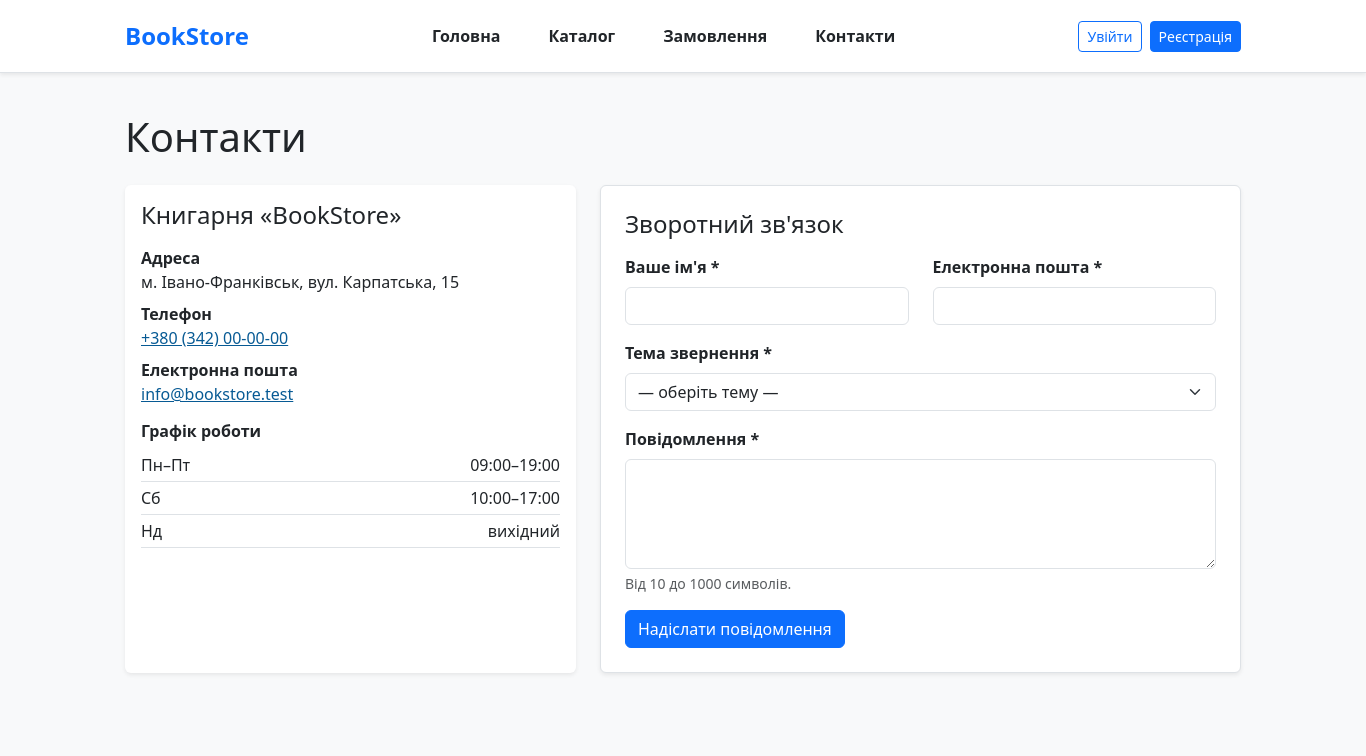
Scenario: Автентифікація, захищені маршрути та контакти › валідує форму зворотного зв’язку і надсилає коректне звернення
Click the button "Надіслати повідомлення" at (735, 629), box [625, 610, 845, 648]
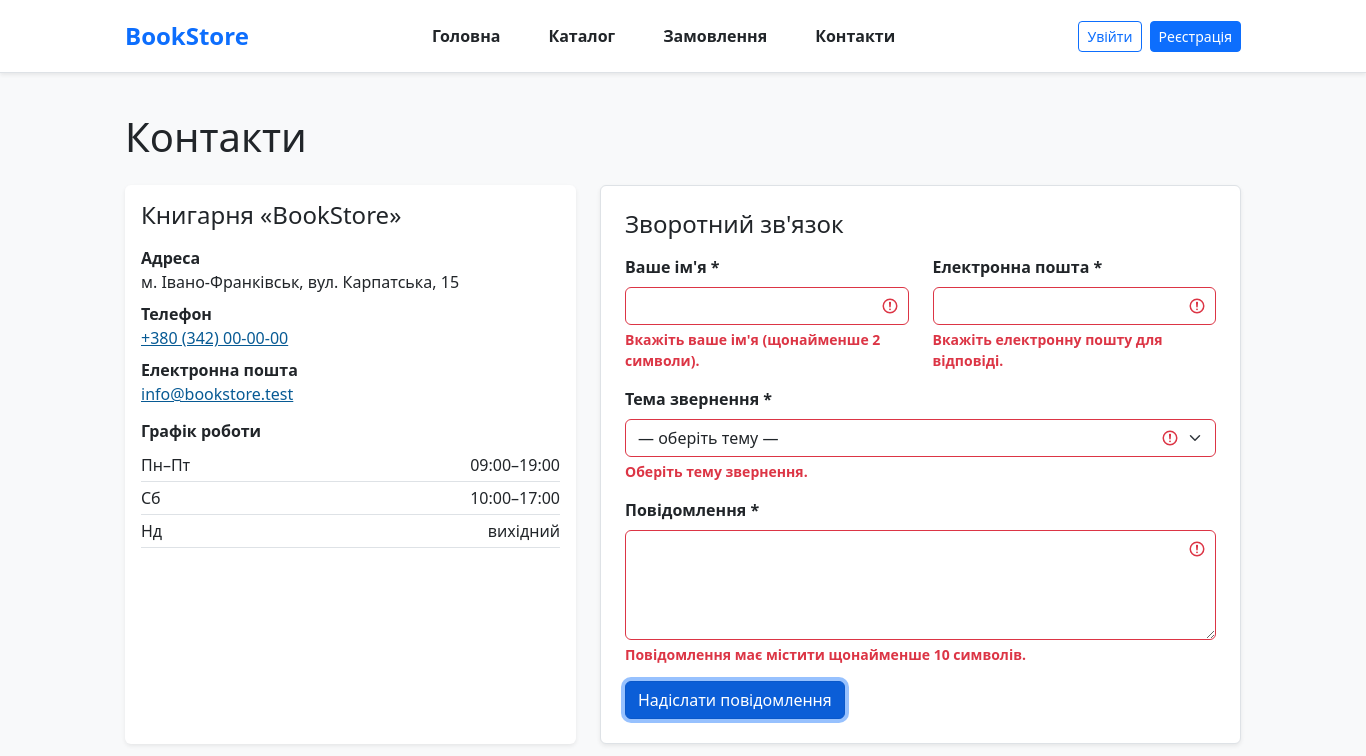
Now the text "Оберіть тему звернення." is shown, box [625, 462, 808, 481]
Type "Олена" into the field labelled "Ваше ім'я *" at (767, 306), box [625, 287, 908, 325]
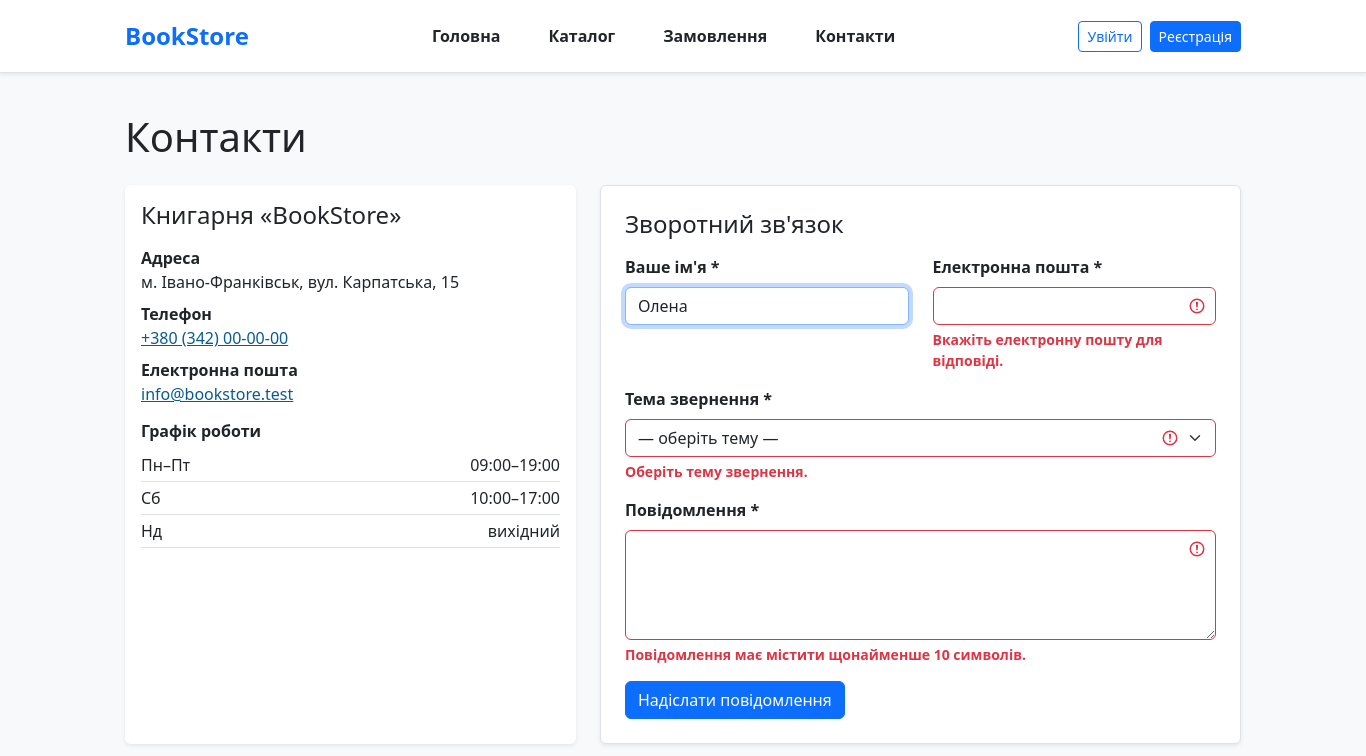
Type "olena@example.com" into the field labelled "Електронна пошта *" at (1074, 306), box [932, 287, 1216, 325]
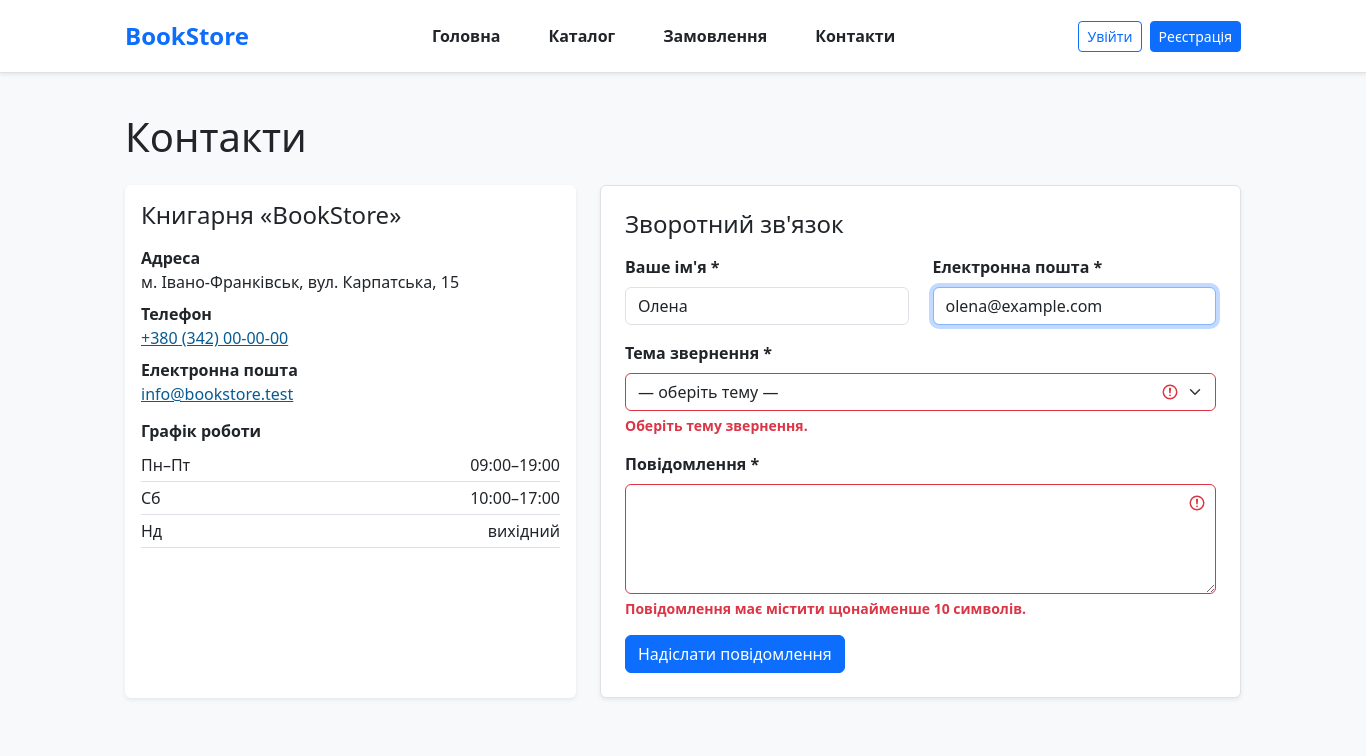
Select "Пропозиція до асортименту" in the dropdown labelled "Тема звернення *" at (920, 392), box [625, 373, 1216, 411]
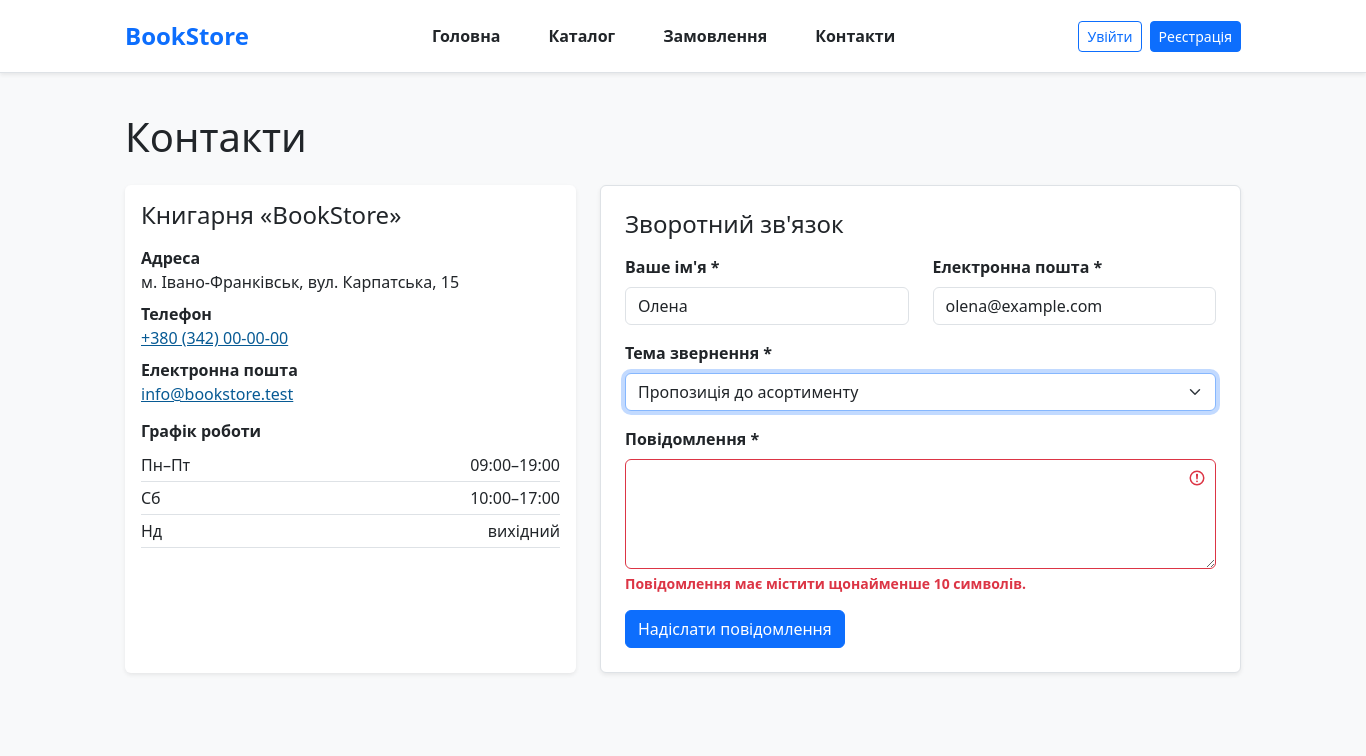
Type "Додайте, будь ласка, більше фентезі." into the text box labelled "Повідомлення *" at (920, 514), box [625, 459, 1216, 569]
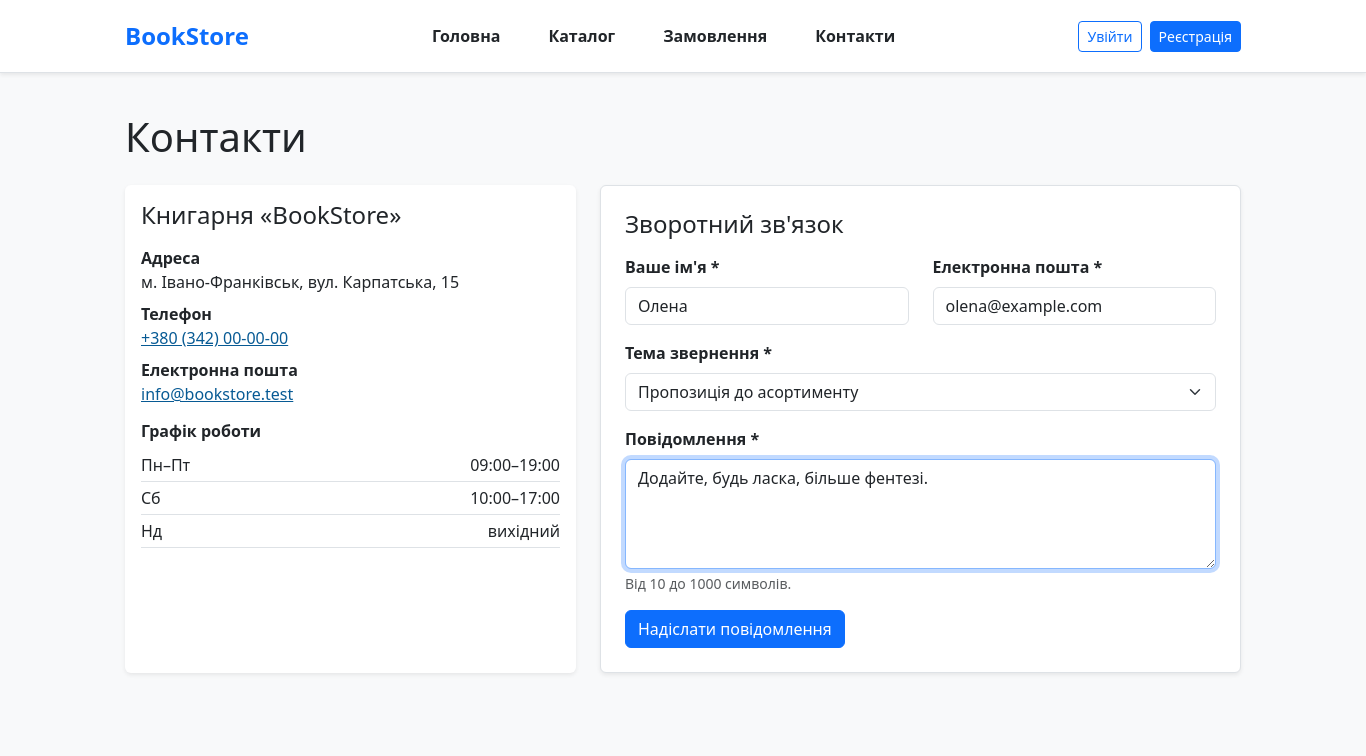
Click the button "Надіслати повідомлення" at (735, 629), box [625, 610, 845, 648]
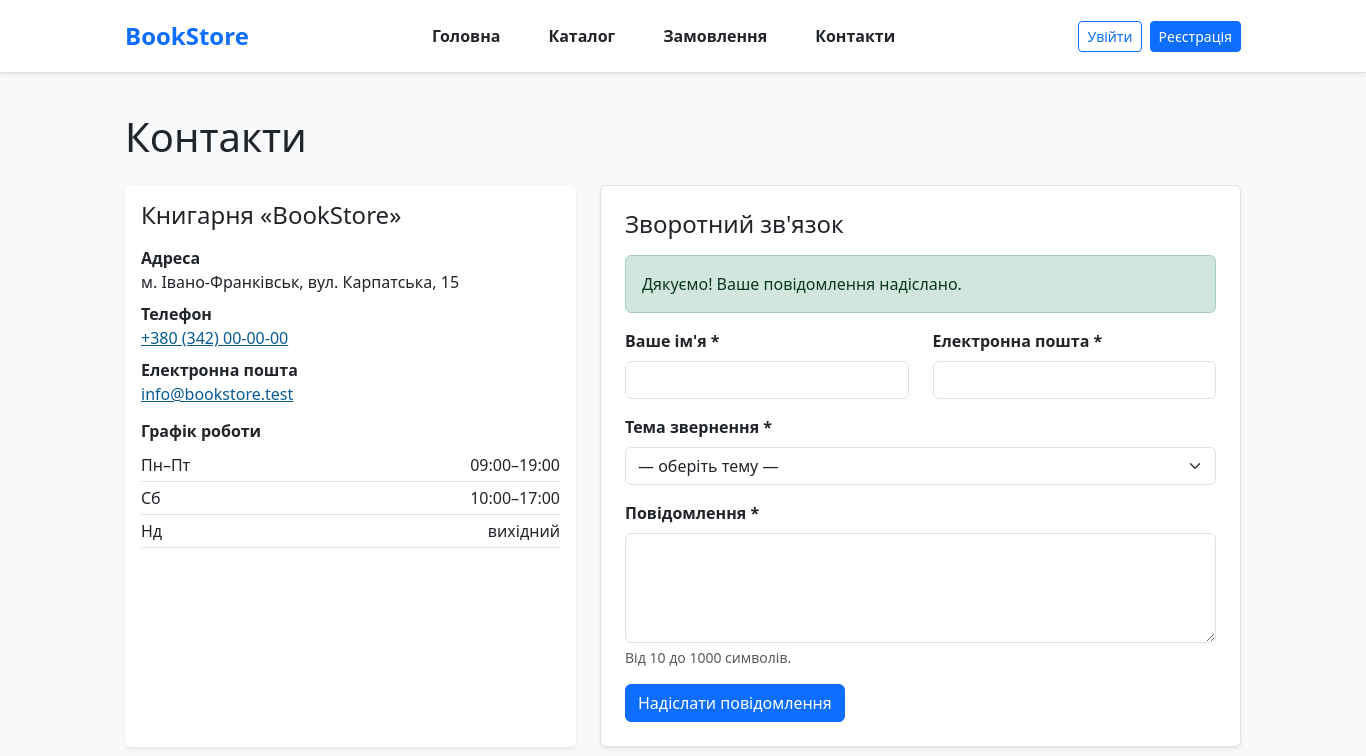
Now the text "Дякуємо! Ваше повідомлення надіслано." is shown, box [625, 255, 1216, 313]
